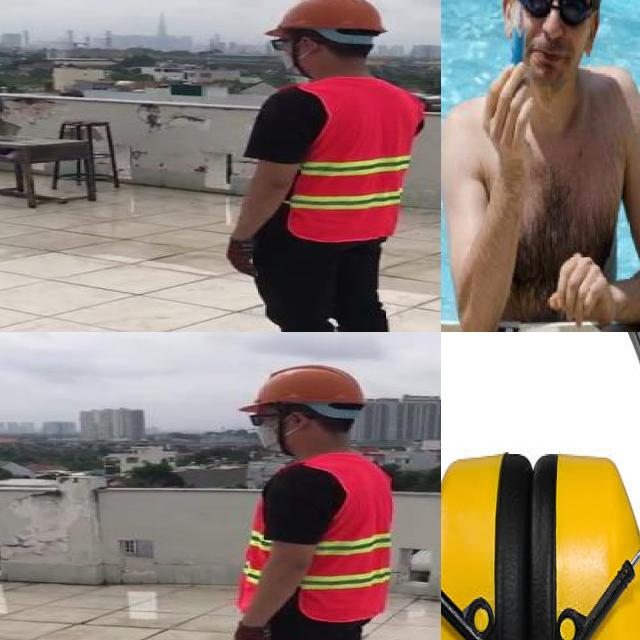Ear-protection: (441, 332, 640, 640)
face_nomask: (519, 0, 590, 74)
glasses: (514, 0, 595, 28)
hand_glove: (224, 239, 262, 277), (232, 624, 278, 640)
hand_noglove: (480, 59, 540, 159), (547, 252, 619, 321)
head_helmet: (238, 363, 363, 411), (263, 0, 385, 33)
person: (441, 0, 640, 332), (229, 0, 426, 332), (207, 358, 397, 640)
vest: (241, 453, 394, 622), (284, 79, 420, 242)
